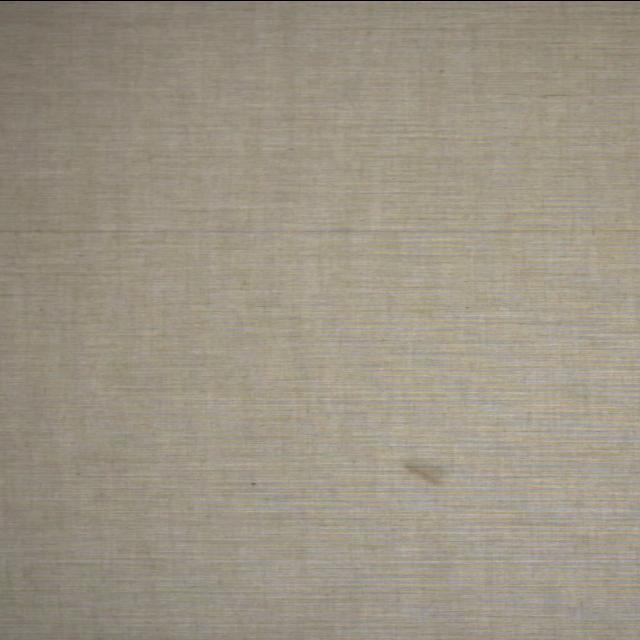dirty: (403, 464, 441, 484), (252, 482, 256, 484)
